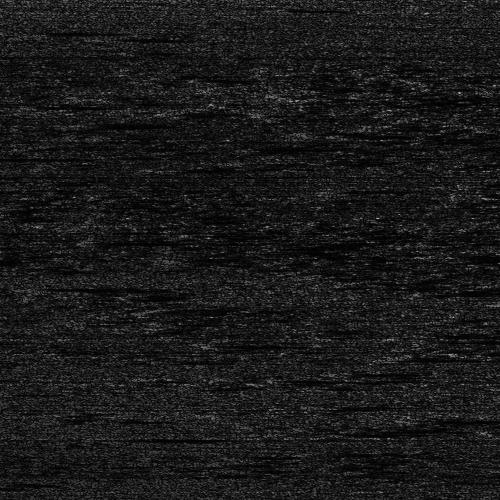rock: (0, 282, 63, 289), (369, 353, 432, 358)
shadow: (27, 282, 133, 289), (401, 353, 500, 358), (0, 155, 44, 160)
